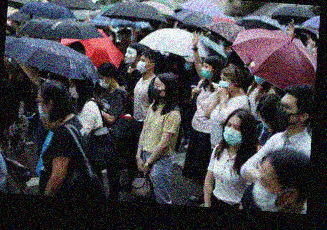with_mask: (249, 172, 281, 210), (274, 99, 297, 127), (221, 119, 243, 146), (34, 96, 47, 120), (149, 81, 164, 100), (121, 47, 135, 65), (217, 75, 231, 92), (199, 62, 212, 79), (135, 56, 148, 73), (66, 81, 78, 98), (96, 74, 109, 88)
